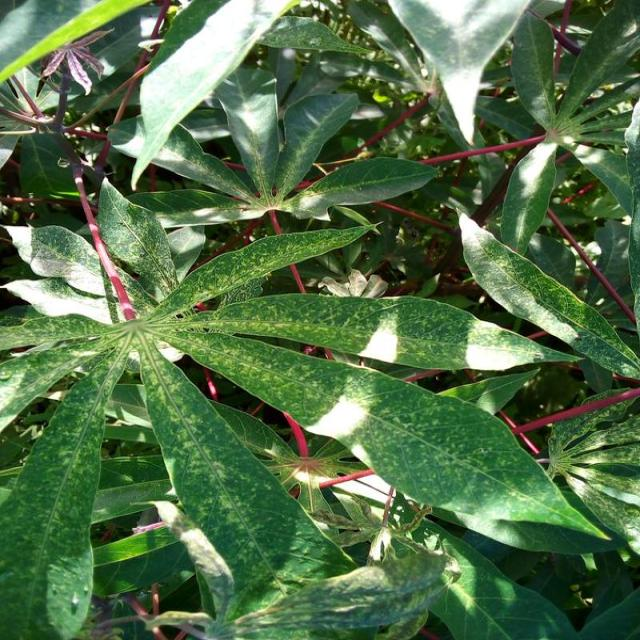cassava leaf: (0, 1, 638, 638), (159, 326, 624, 557)
